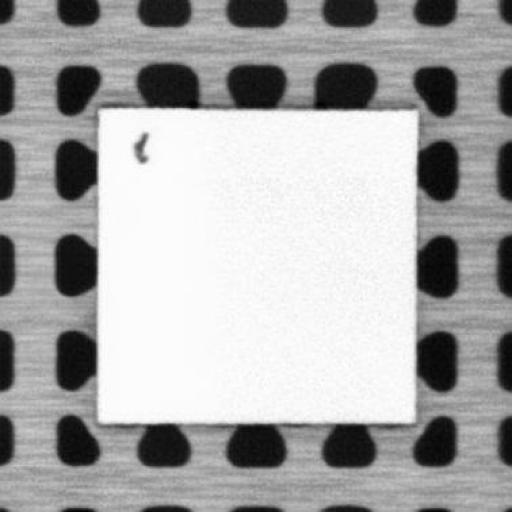DIE_INK: (130, 128, 152, 164)
